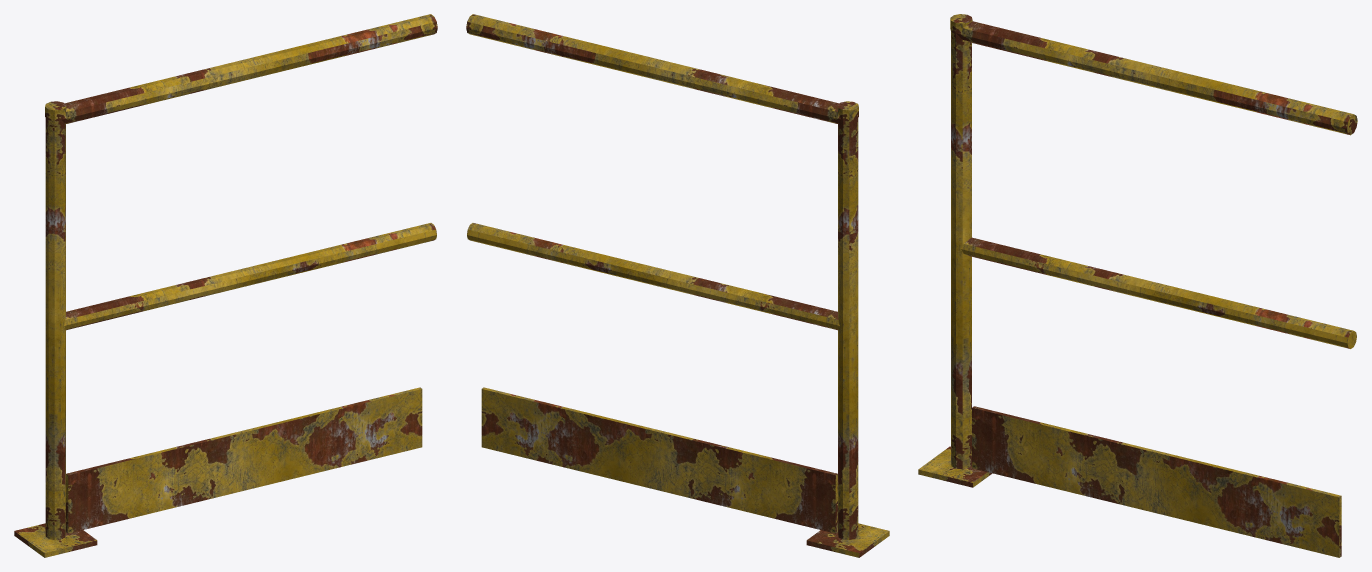
File: korkuluk_1m.gltf
The picture shows the model from 3 angles, left to right: view 1: azimuth 30°, elevation 25°; view 2: azimuth 150°, elevation 25°; view 3: azimuth 330°, elevation 25°; orthographic projection. The views are drawn at different scales.
Visible parts, largest first — view 1: korkuluk_1m; view 2: korkuluk_1m; view 3: korkuluk_1m.
Boxes of the visible parts, box(x1,y1,x2,y2) form: korkuluk_1m: box(14, 14, 437, 557); korkuluk_1m: box(466, 14, 889, 557); korkuluk_1m: box(918, 14, 1357, 557).
Size of what is drawn, in the model's own units: 1.07 by 1.1 by 0.14.
Materials: 1 (1 with a texture image).
